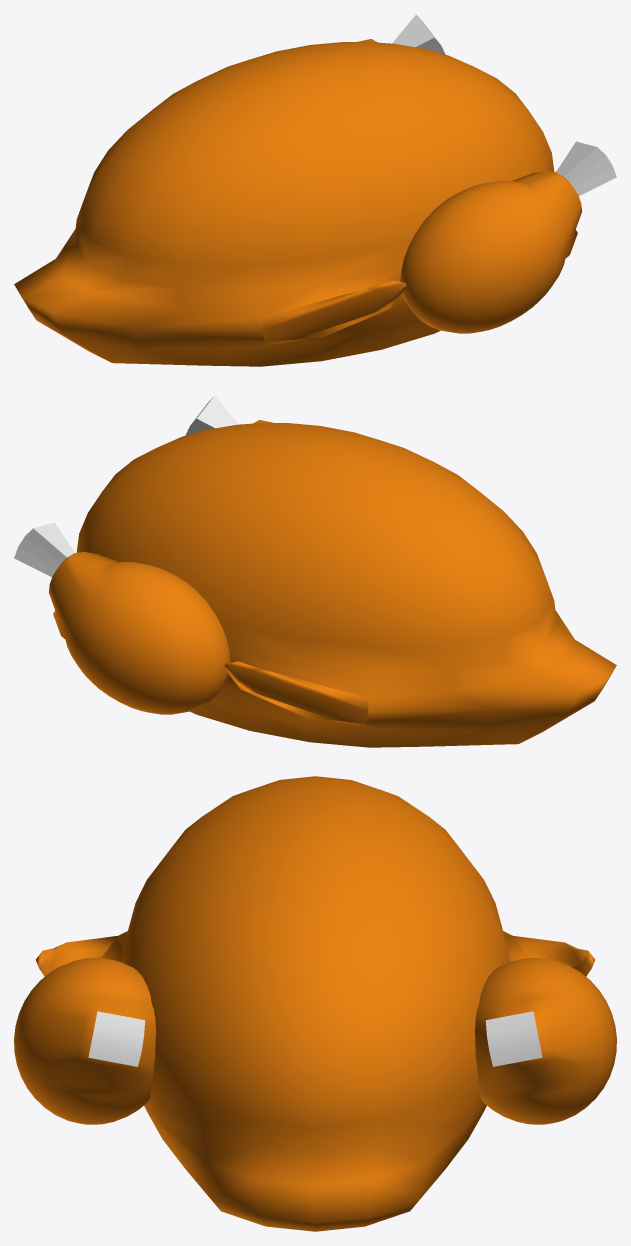
The model's file is Roast_Chicken2.fbx.
3 views of the same model, one above another, from view 1: azimuth 30°, elevation 25°; view 2: azimuth 150°, elevation 25°; view 3: azimuth 270°, elevation 25° (orthographic). The views are drawn at different scales.
Parts seen in each view (by area): view 1: pSphere3; view 2: pSphere3; view 3: pSphere3.
Boxes of the visible parts, box(x1,y1,x2,y2) form: pSphere3: box(14, 14, 616, 366); pSphere3: box(14, 395, 616, 747); pSphere3: box(14, 776, 616, 1231).
Size of the model in its own units: 4.39 by 1.84 by 3.52.
